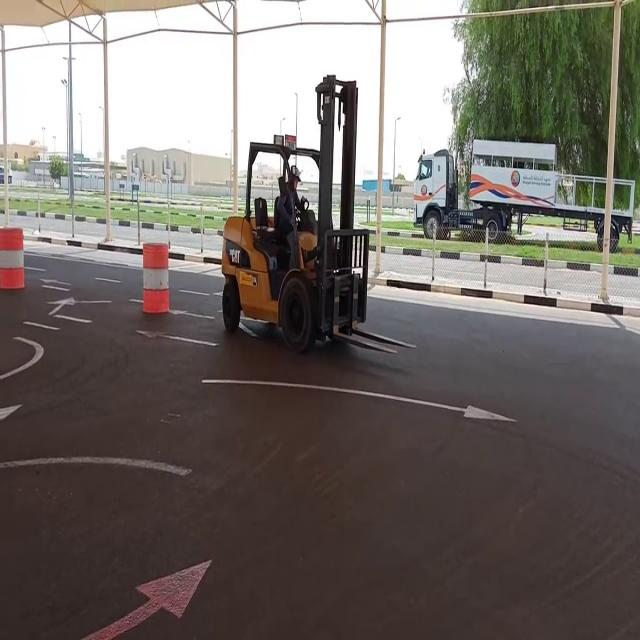Chariot elevateur: (212, 129, 372, 365)
